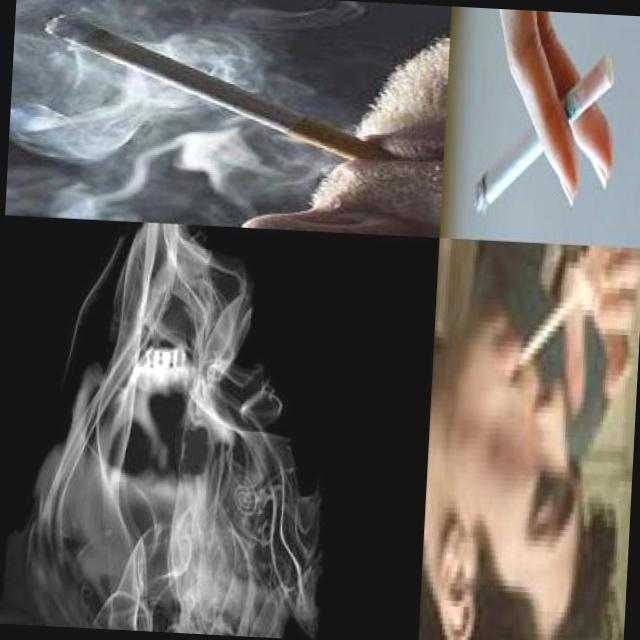smoke: (36, 11, 395, 166), (474, 44, 616, 221), (504, 276, 590, 386)
